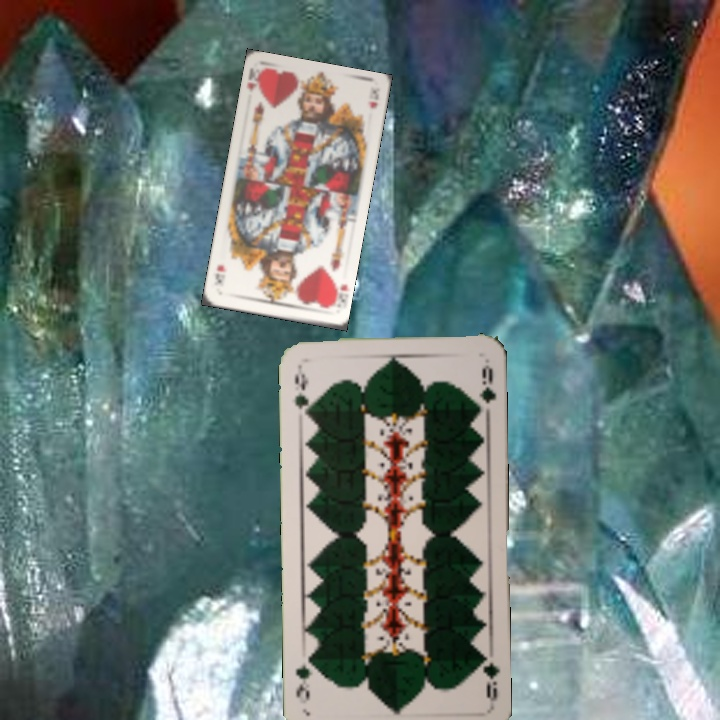G9: (475, 648, 502, 707), (290, 361, 313, 420)
HK: (326, 279, 350, 309), (243, 64, 259, 95)
